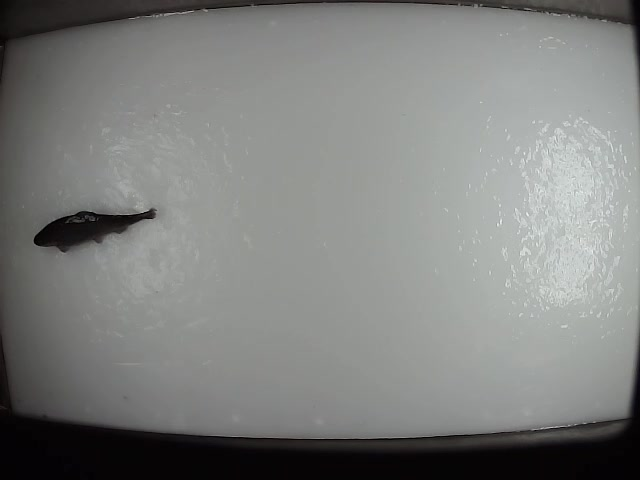fish: (33, 201, 158, 256)
